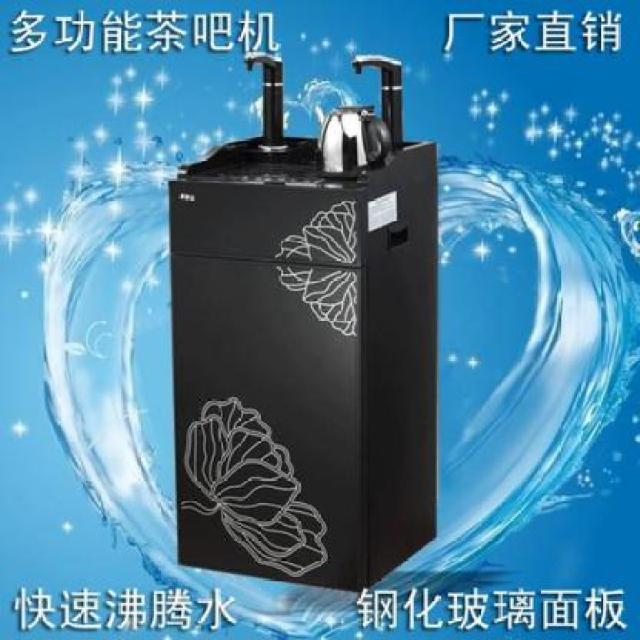cooler: (168, 47, 444, 596)
